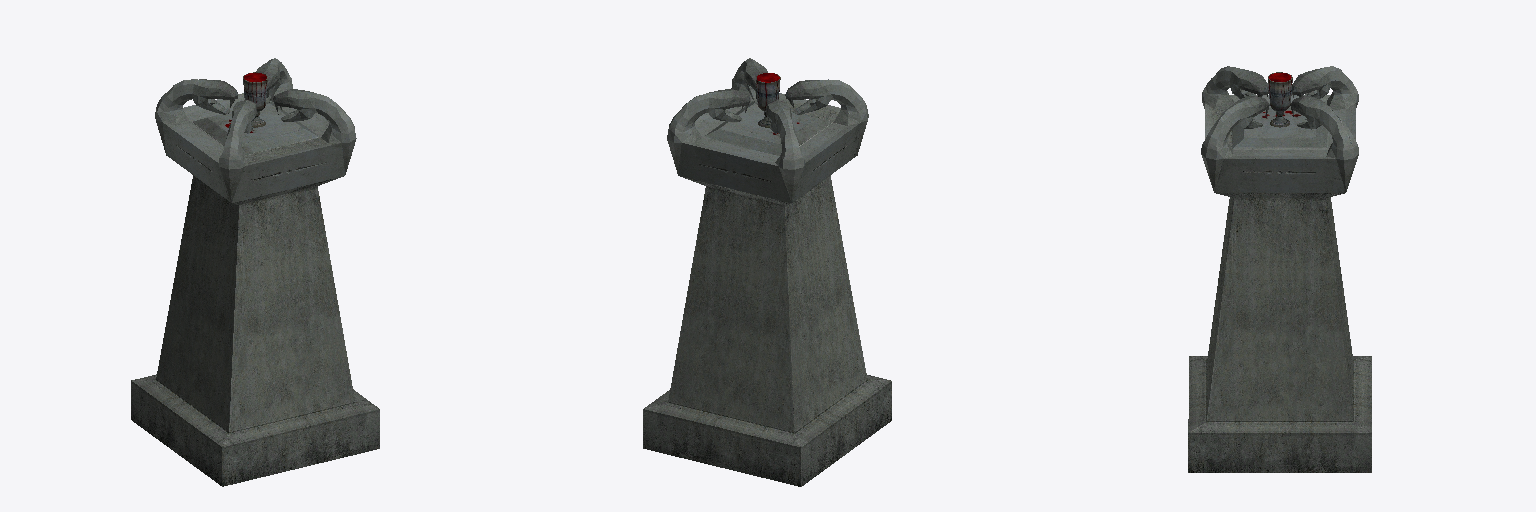
3 views of the same model, side by side, from view 1: azimuth 30°, elevation 25°; view 2: azimuth 150°, elevation 25°; view 3: azimuth 270°, elevation 25° (orthographic).
Bounding box in the file's own units: 4.42 × 9.52 × 4.43.
Materials: 3 (3 with a texture image).